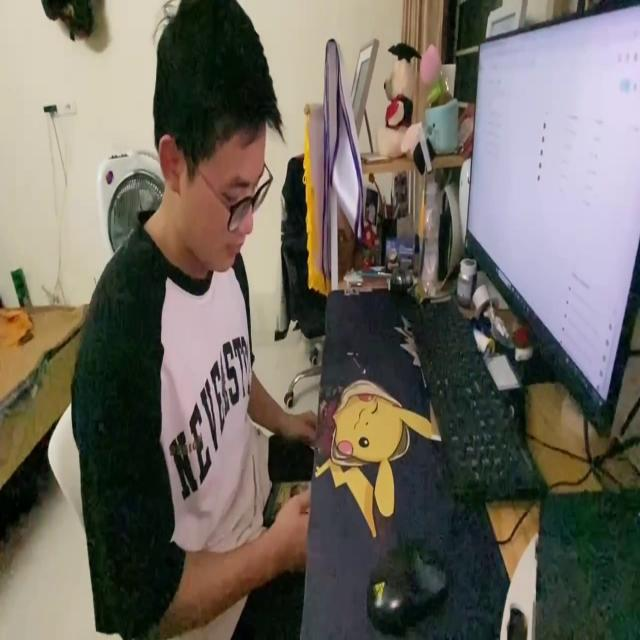laptop: (460, 1, 640, 443)
phone: (264, 479, 310, 526)
student: (68, 0, 314, 640)
